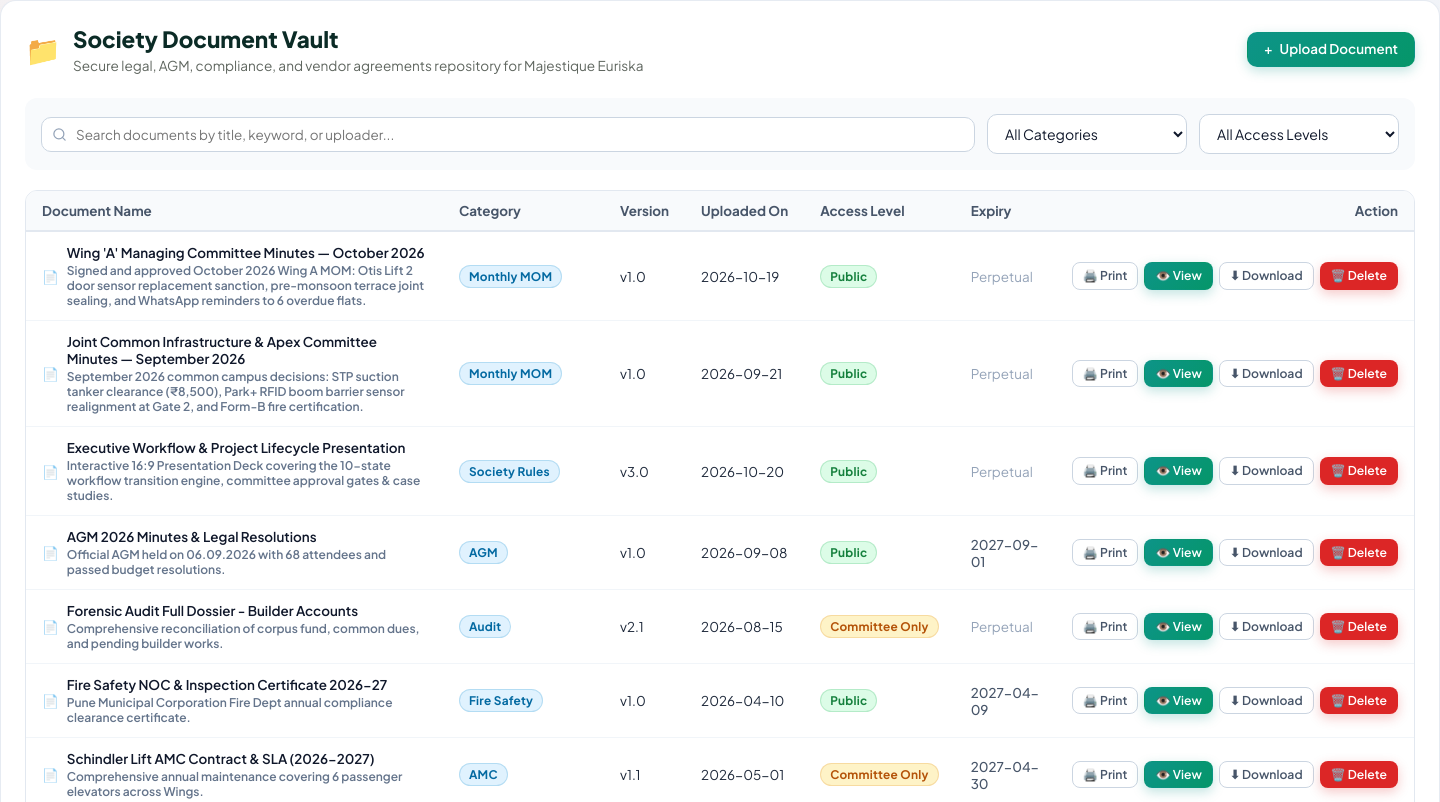
it: DocumentManager Component › permanently deletes document on confirm
Click the button with test id "delete-doc-btn-doc-001" at point(1359, 552), box [1320,539,1398,566]
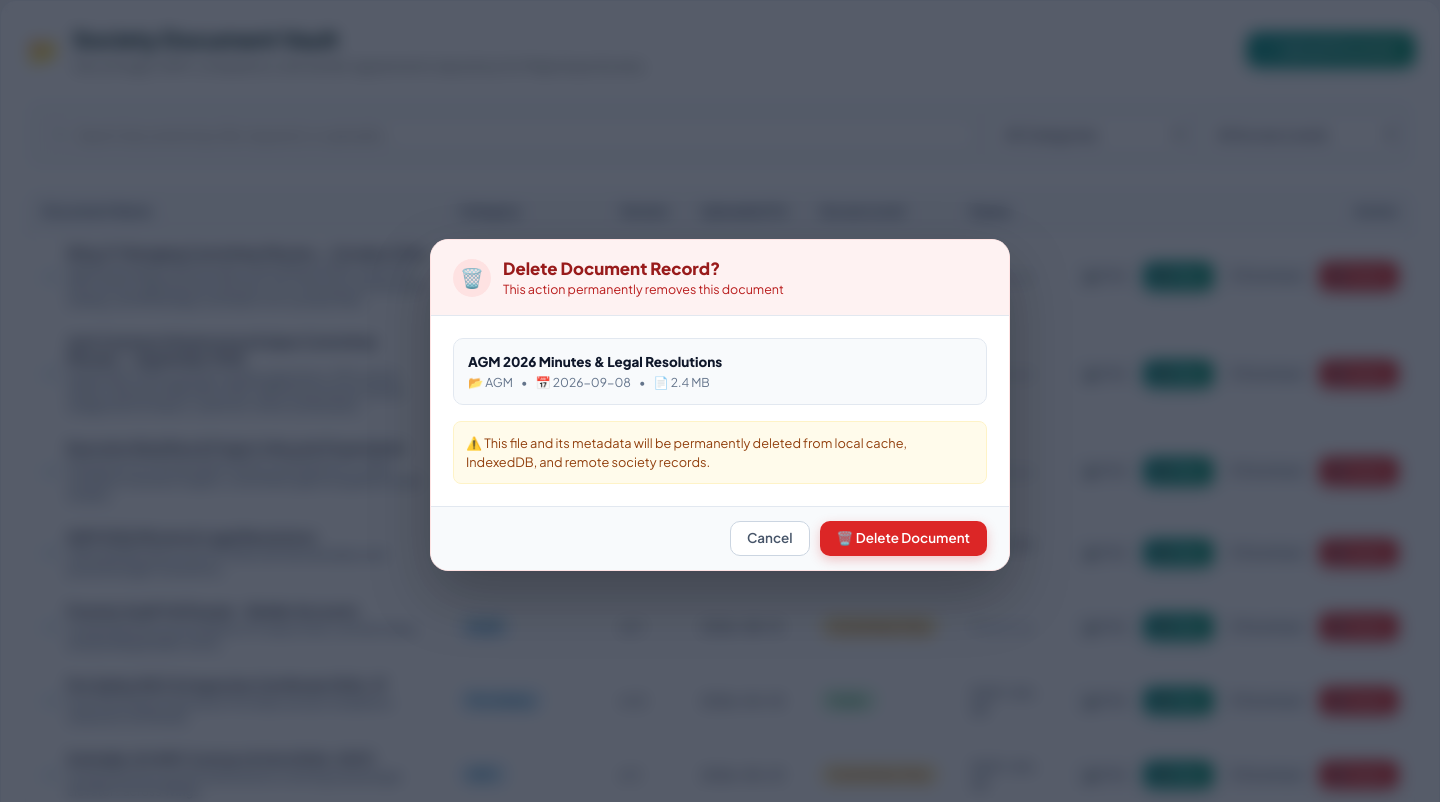
Click the button with test id "confirm-delete-doc-btn" at point(903, 538), box [820,521,987,556]
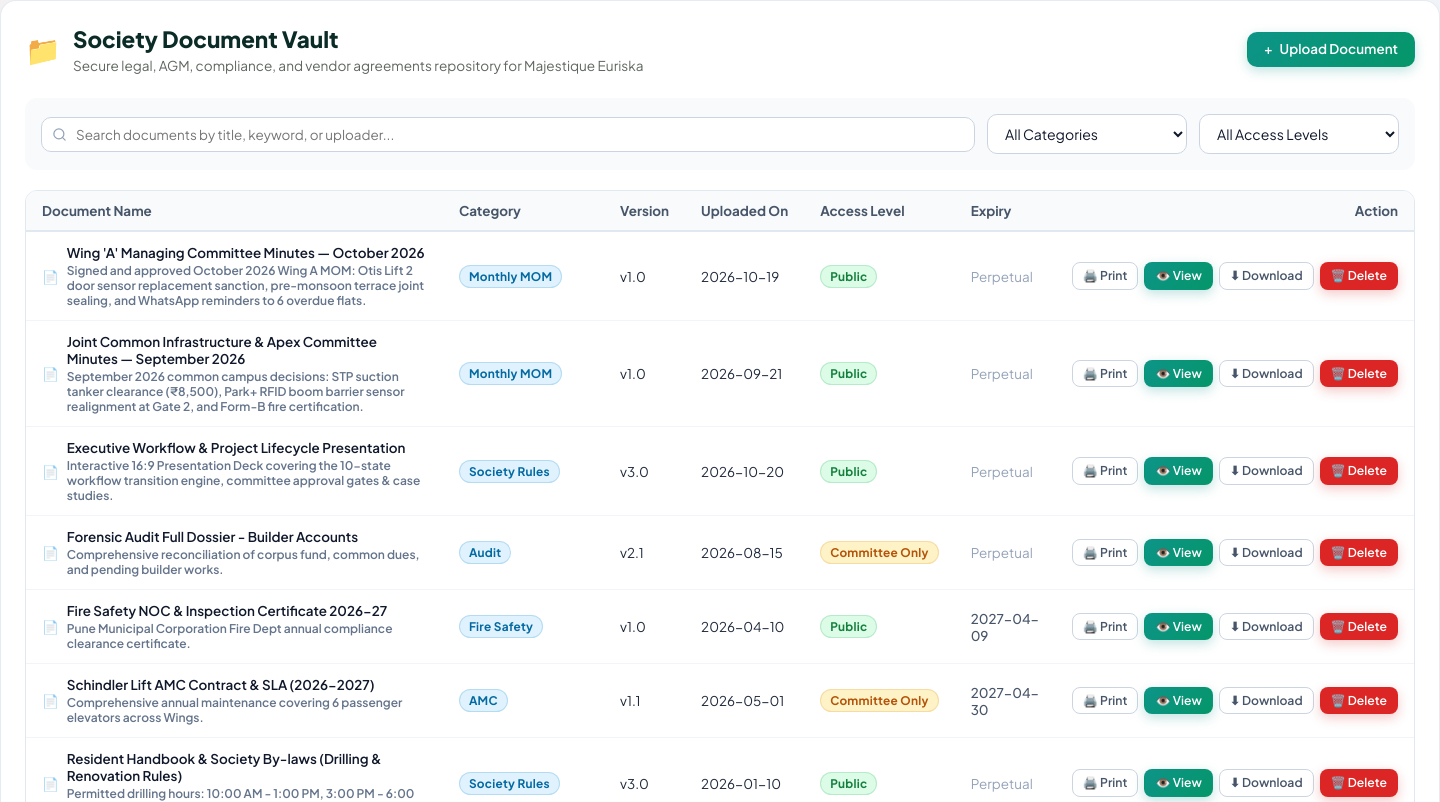
Result: the text "AGM 2026 Minutes & Legal Resolutions" is gone
